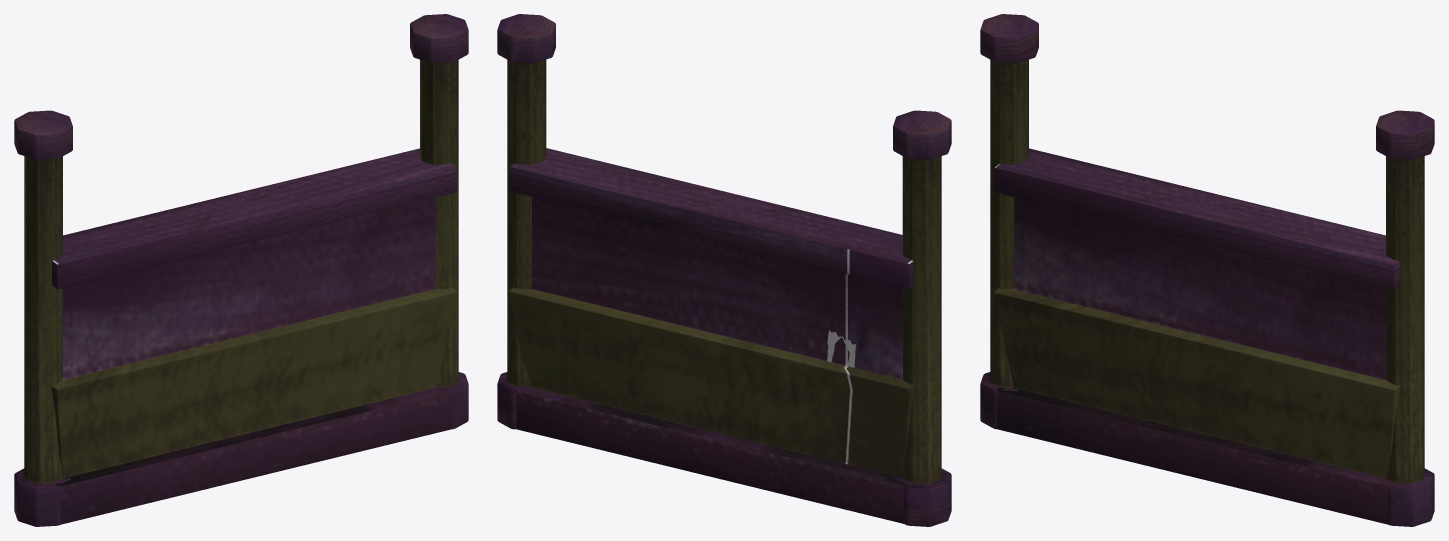
The model's file is MANOR_WALL_3_2.obj.
3 views of the same model, side by side, from view 1: azimuth 30°, elevation 25°; view 2: azimuth 150°, elevation 25°; view 3: azimuth 330°, elevation 25° (orthographic).
Visible parts, largest first — view 1: MANOR_WALL_3_2.004; view 2: MANOR_WALL_3_2.004; view 3: MANOR_WALL_3_2.004.
Boxes of the visible parts, x1,y1,x2,y2 form: MANOR_WALL_3_2.004: (14,14,468,526); MANOR_WALL_3_2.004: (497,14,951,526); MANOR_WALL_3_2.004: (980,14,1434,526).
Size of the model in its own units: 3.57 by 3 by 0.4139.
